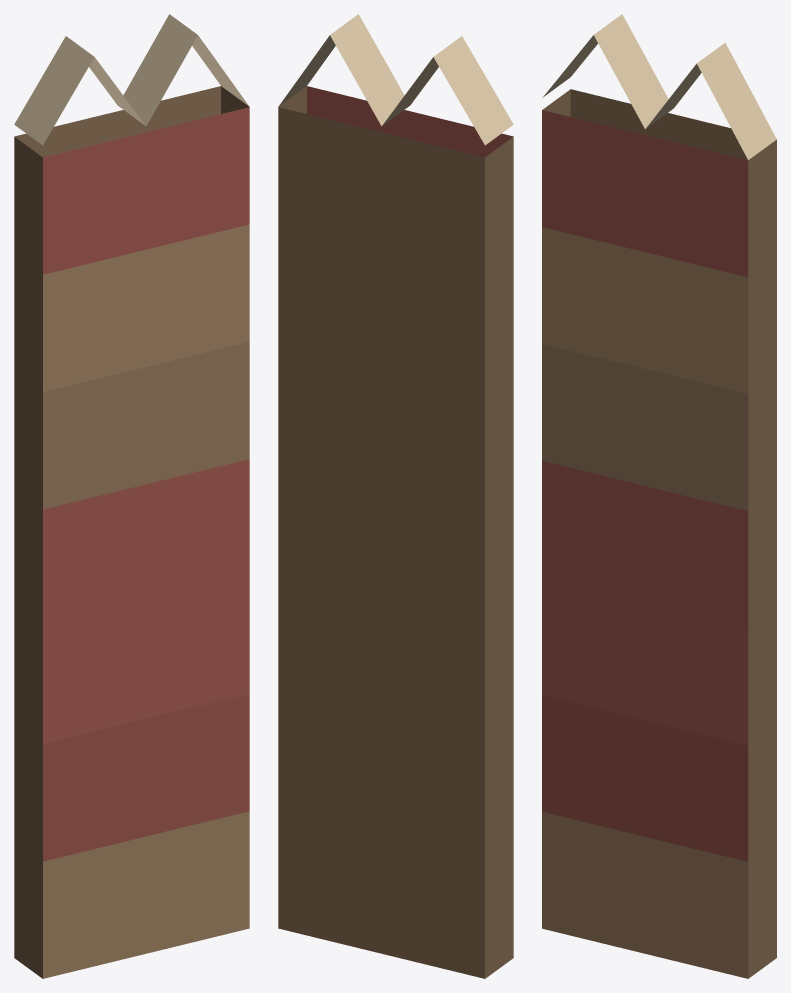
Rendered from shield_plank.glb.
The picture shows the model from 3 angles, left to right: view 1: azimuth 30°, elevation 25°; view 2: azimuth 150°, elevation 25°; view 3: azimuth 330°, elevation 25°; orthographic projection.
Visible parts, largest first — view 1: shield_plank; view 2: shield_plank; view 3: shield_plank.
Part boxes in pixels (x1,y1,x2,y2): shield_plank: (14,14,249,978); shield_plank: (278,14,513,978); shield_plank: (542,14,776,978).
Bounding box in the file's own units: 0.208 × 0.8737 × 0.05.
